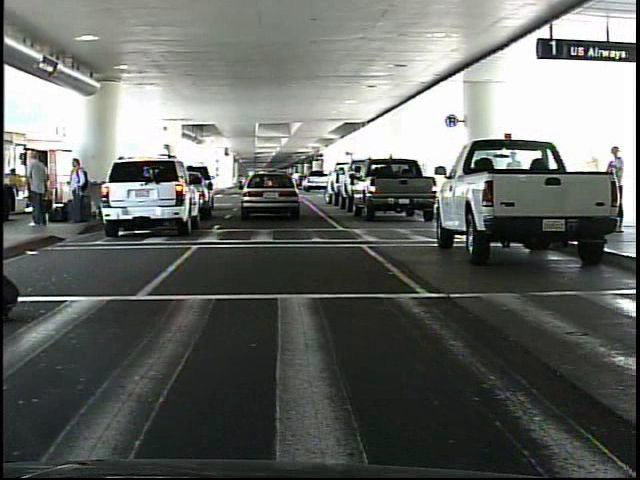person: (597, 142, 628, 231), (23, 150, 51, 227), (64, 156, 88, 225)
